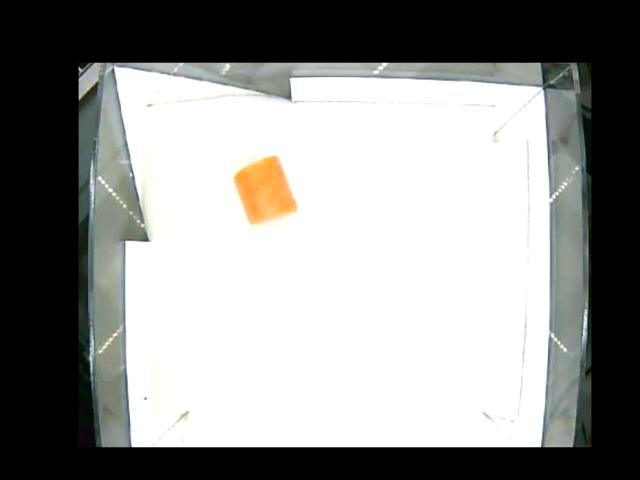Carrot: (234, 155, 298, 226)
